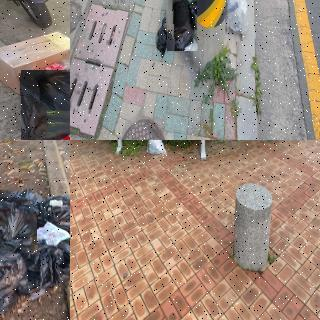Garbage: (20, 68, 70, 140), (0, 246, 30, 316), (0, 204, 37, 254), (166, 0, 197, 51), (42, 195, 70, 244), (220, 0, 253, 41), (143, 140, 166, 156)
